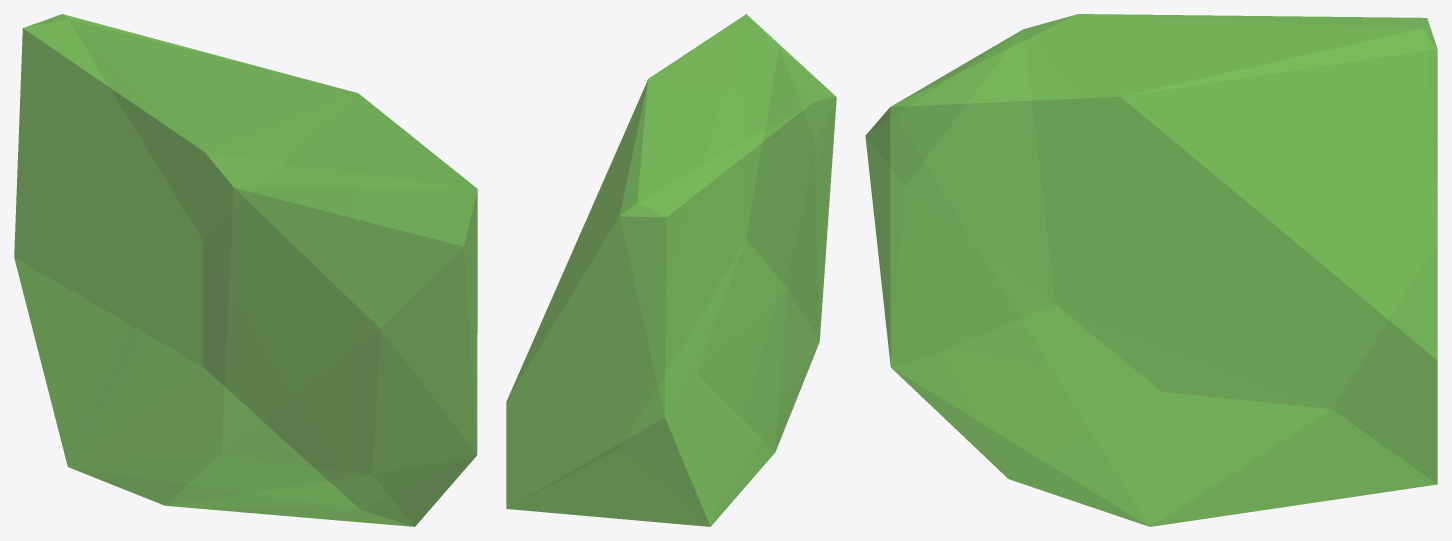
3 views of the same model, side by side, from view 1: azimuth 30°, elevation 25°; view 2: azimuth 150°, elevation 25°; view 3: azimuth 270°, elevation 25° (orthographic). The views are drawn at different scales.
Parts seen in each view (by area): view 1: Shape_IndexedFaceSet.151_Shape_IndexedFaceSet.9672; view 2: Shape_IndexedFaceSet.151_Shape_IndexedFaceSet.9672; view 3: Shape_IndexedFaceSet.151_Shape_IndexedFaceSet.9672.
Part boxes in pixels (<box>): Shape_IndexedFaceSet.151_Shape_IndexedFaceSet.9672: <box>14,14,477,526</box>; Shape_IndexedFaceSet.151_Shape_IndexedFaceSet.9672: <box>506,14,836,526</box>; Shape_IndexedFaceSet.151_Shape_IndexedFaceSet.9672: <box>865,14,1437,526</box>.
Size of the model in its own units: 0.0977 by 0.2024 by 0.2484.
